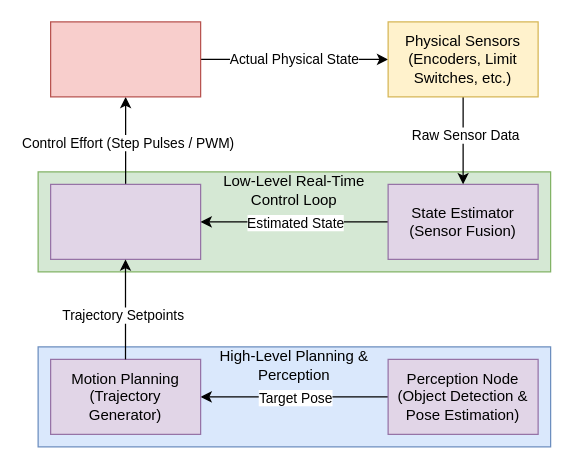
This 573x469 diagram has some shape labels left out. Each missing label, with the box of its shape:
Feedback Controller (PID Position / Velocity): (49, 183, 201, 259)
The Plant (Physical Gantry Hardware): (49, 21, 201, 97)
